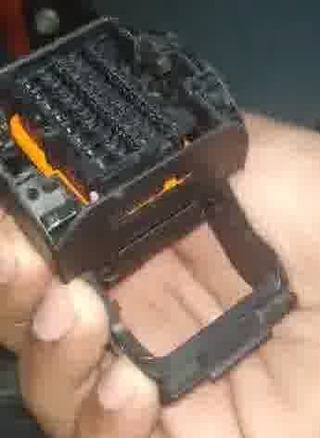connector: (1, 14, 249, 286)
